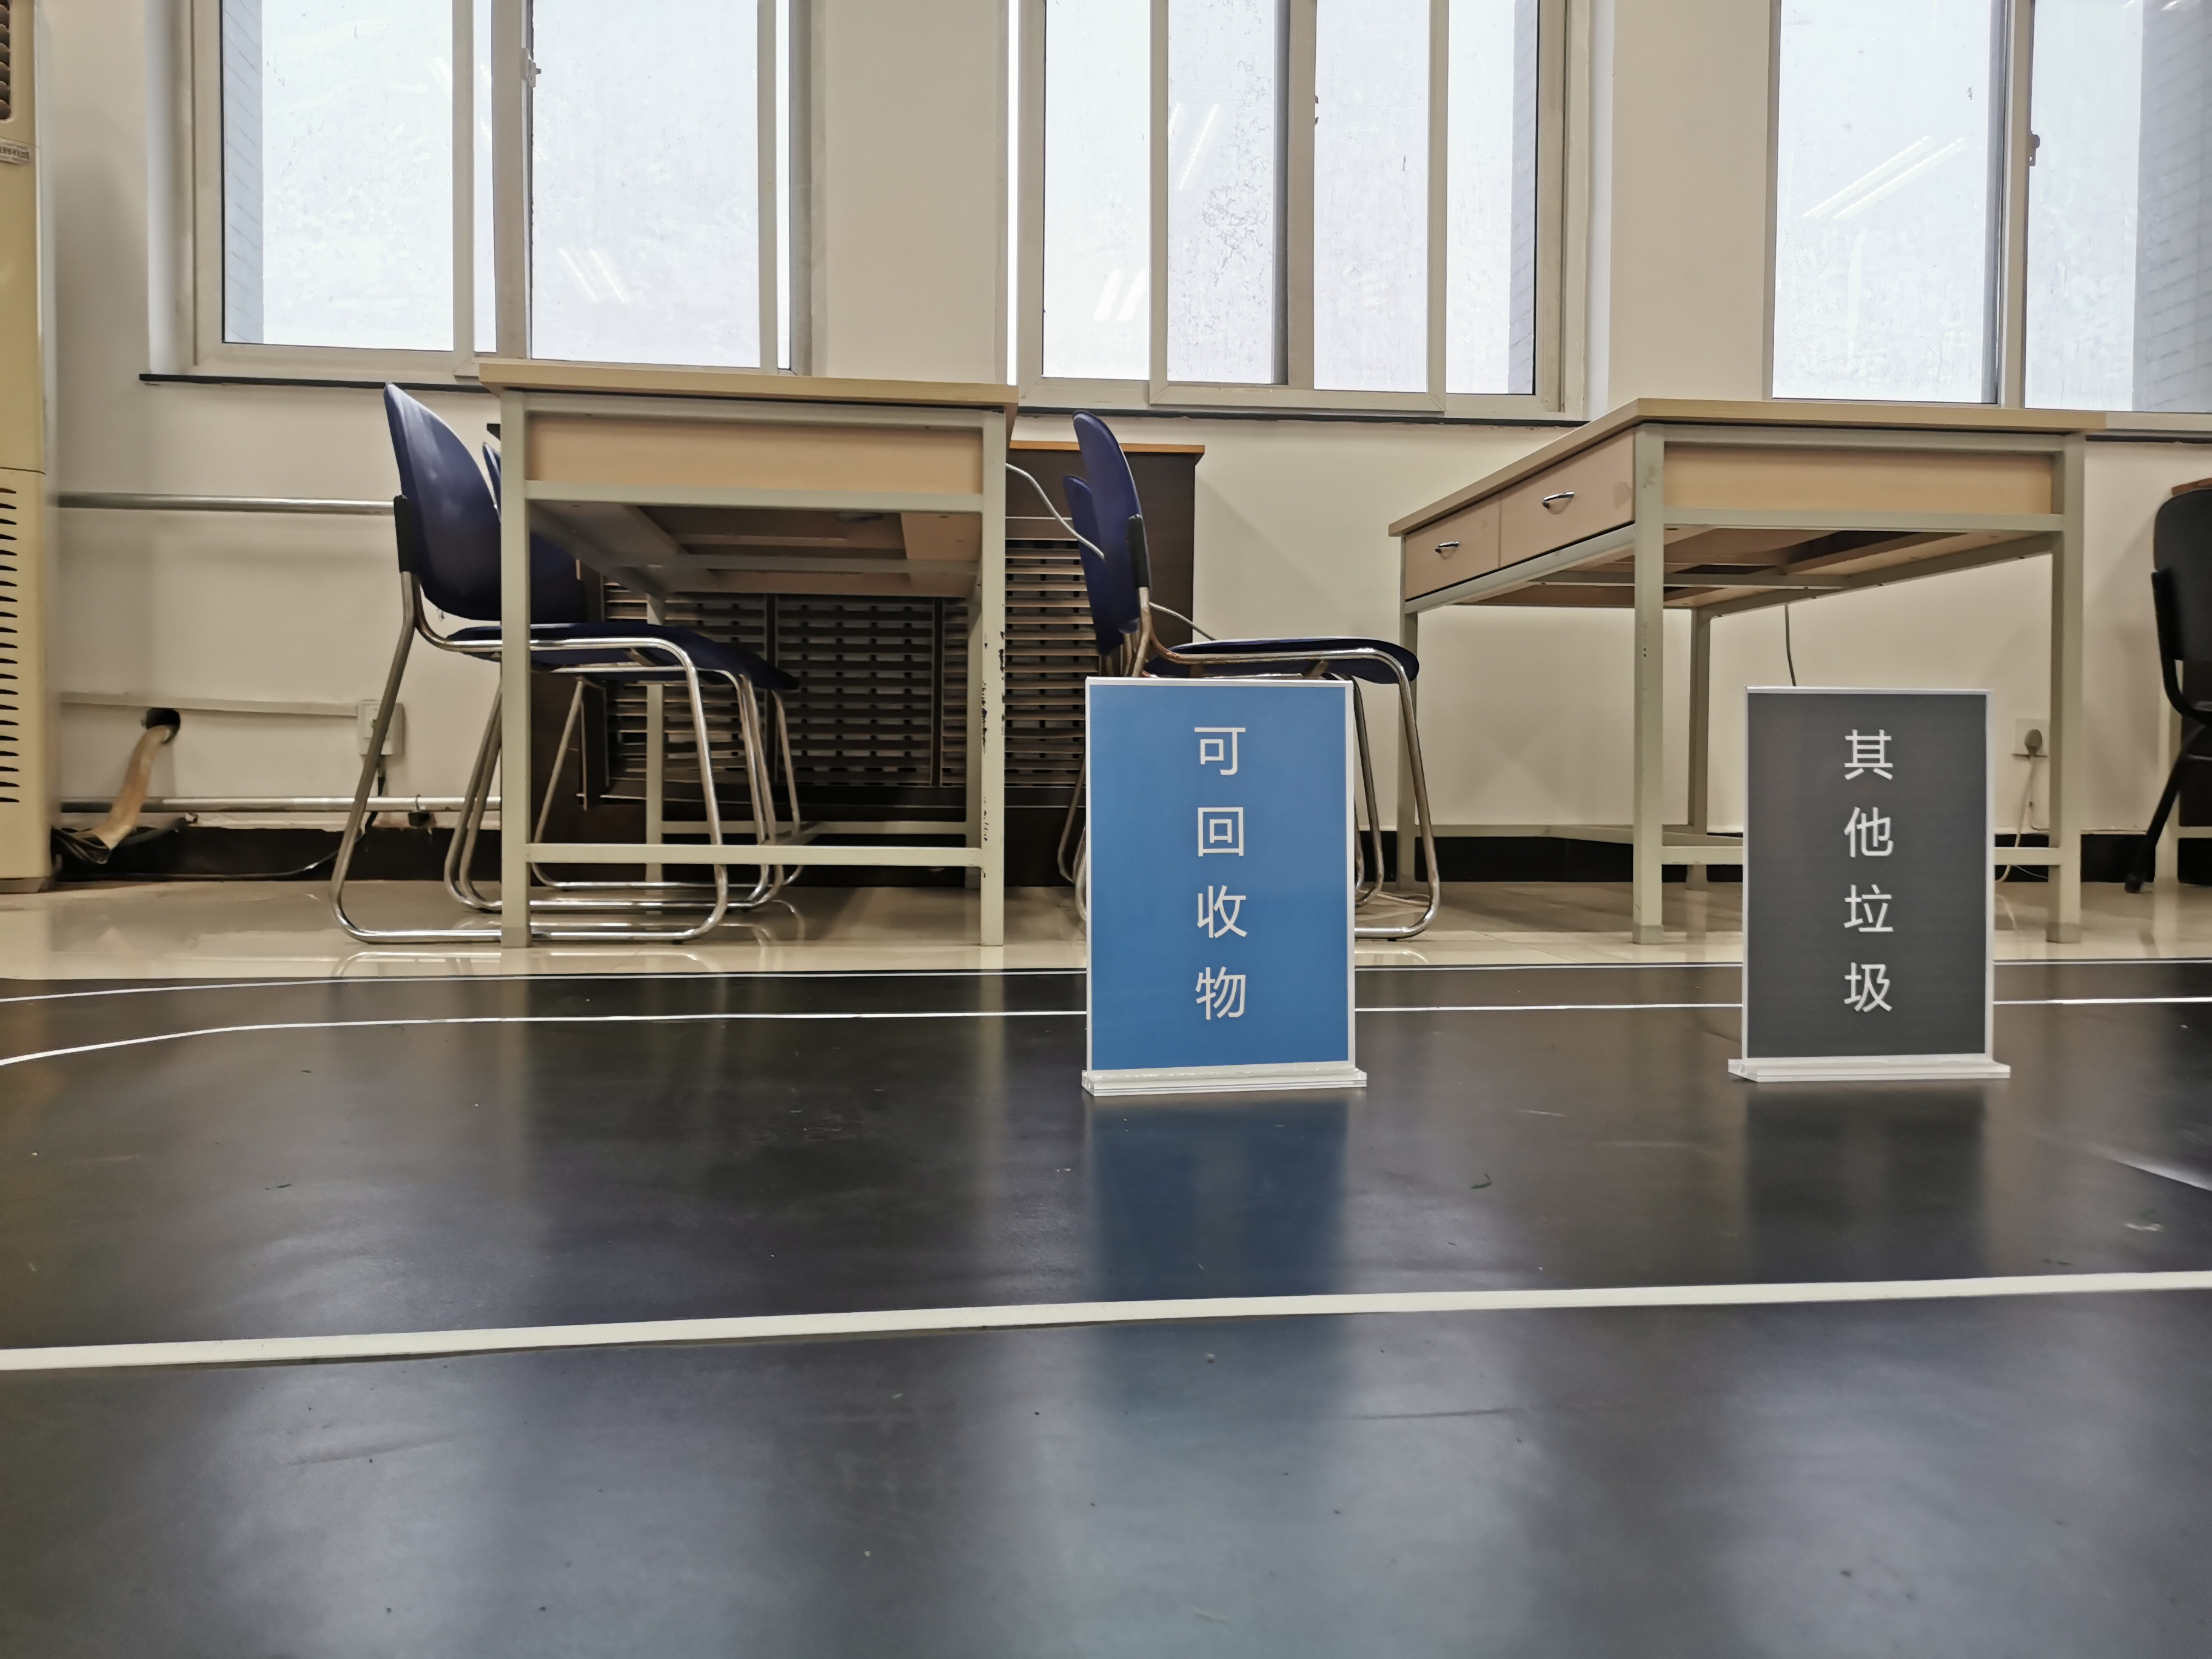black: (1752, 697, 1979, 1046)
blue: (1097, 692, 1343, 1061)
